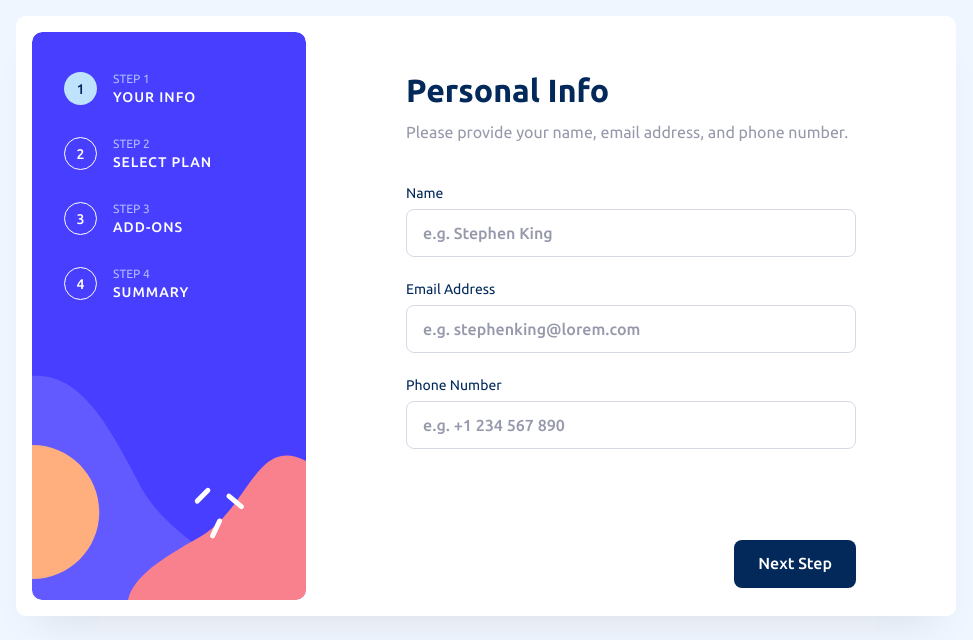
Test: Steps logic › Personal Info step › Should redirect to next step when all text input data is correct
Click the link with test id "next-step" at (795, 564), box [734,540,856,588]
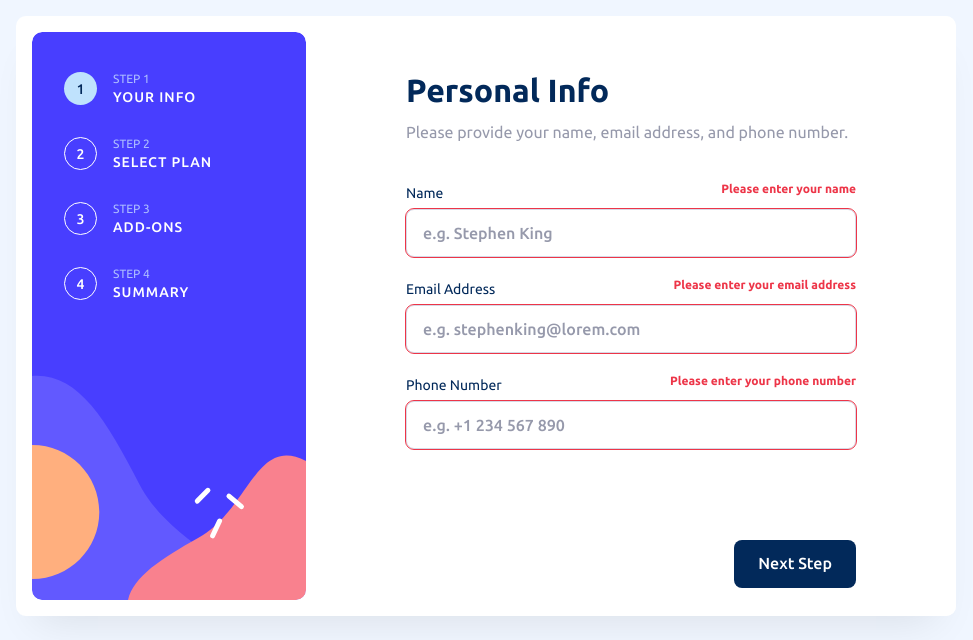
Expected: the heading with test id "title" reads "Personal Info", [406,72,609,108]
Type "test name" into the field with test id "input" showing "Name" at (631, 233), box [406,209,856,257]
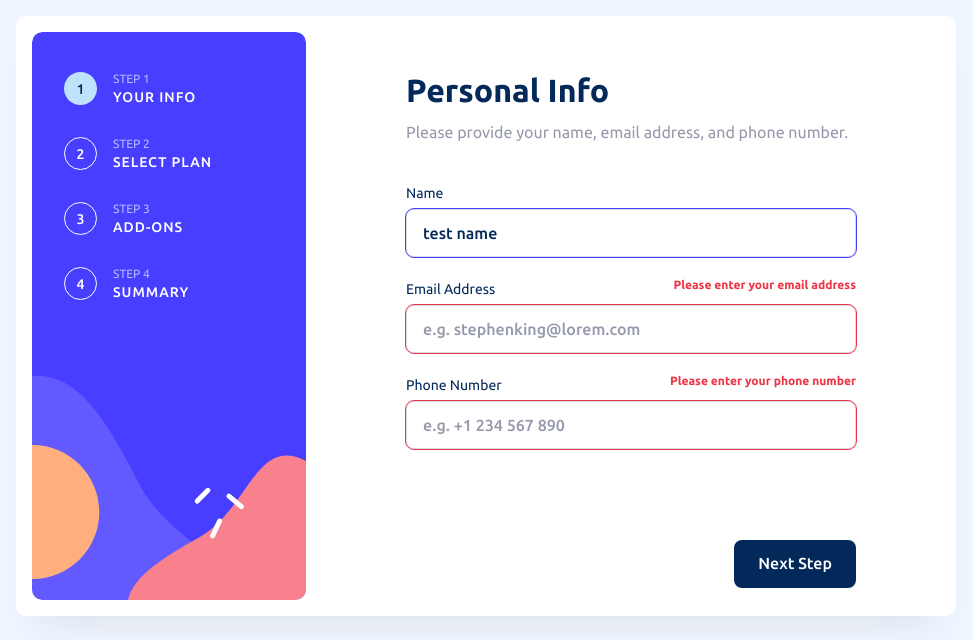
Type "email@example.com" into the field with test id "input" showing "Email Address" at (631, 329), box [406,305,856,353]
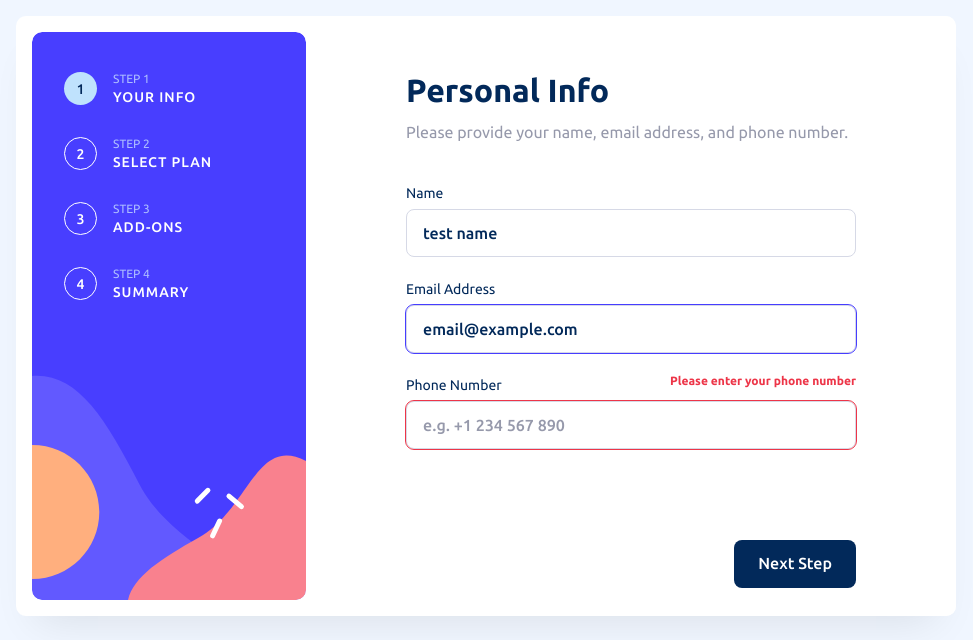
Type "555444333" into the field with test id "input" showing "Phone Number" at (631, 425), box [406,401,856,449]
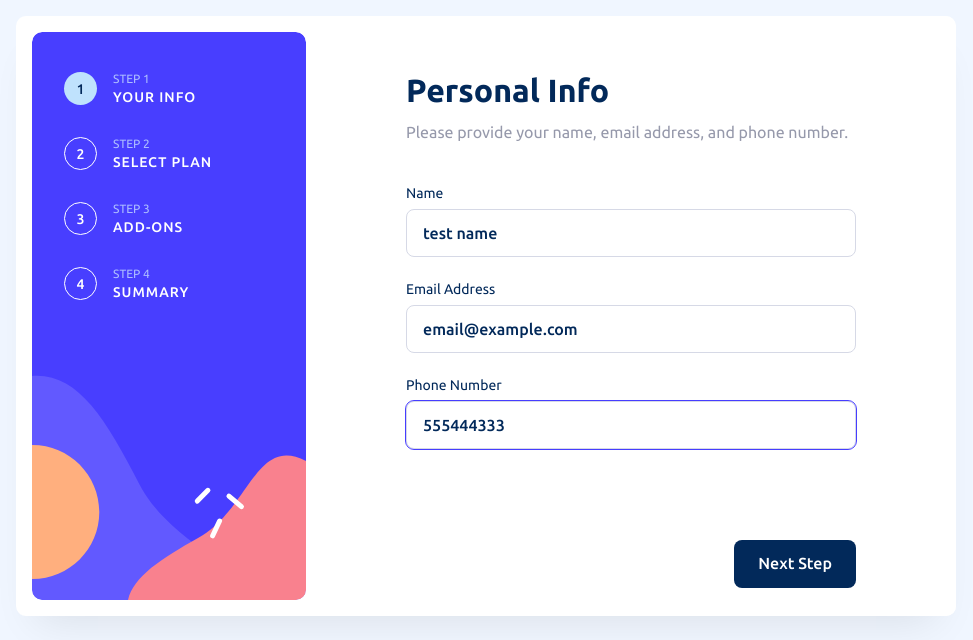
Click the link with test id "next-step" at (795, 564), box [734,540,856,588]
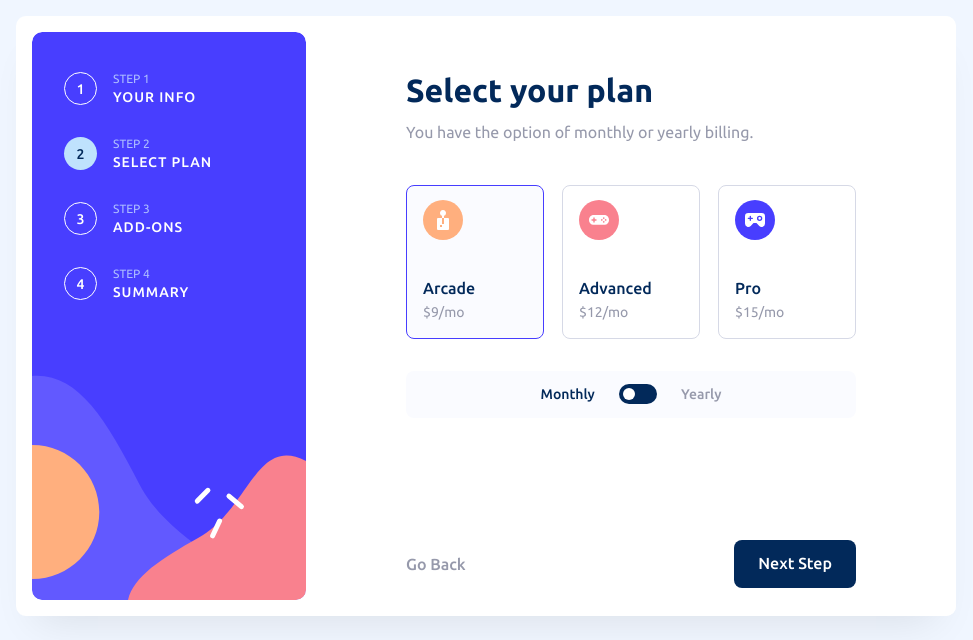
Expected: the heading with test id "title" reads "Select your plan", [406,72,653,108]
